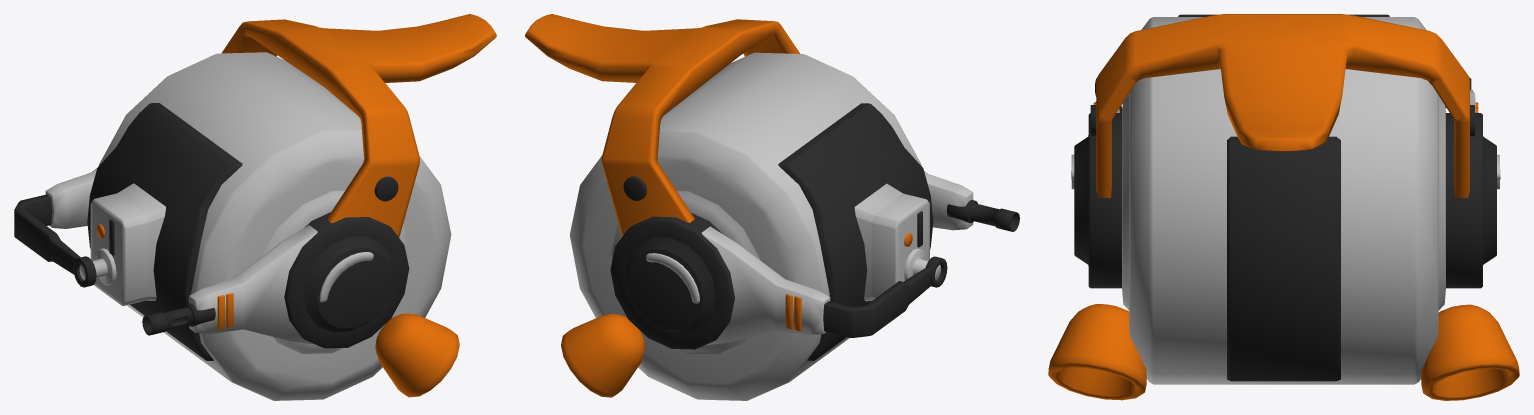
The picture shows the model from 3 angles, left to right: view 1: azimuth 30°, elevation 25°; view 2: azimuth 150°, elevation 25°; view 3: azimuth 270°, elevation 25°; orthographic projection. The views are drawn at different scales.
Parts seen in each view (by area): view 1: Drone_earner.003; view 2: Drone_earner.003; view 3: Drone_earner.003.
Boxes of the visible parts, x1,y1,x2,y2 form: Drone_earner.003: [14, 14, 496, 400]; Drone_earner.003: [525, 14, 1019, 400]; Drone_earner.003: [1048, 14, 1519, 400].
Bounding box in the file's own units: 4.18 × 2.92 × 3.32.
